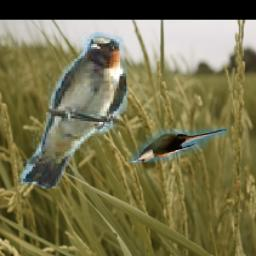Cuckoo: (130, 128, 227, 163)
Swallow: (18, 33, 129, 189)
